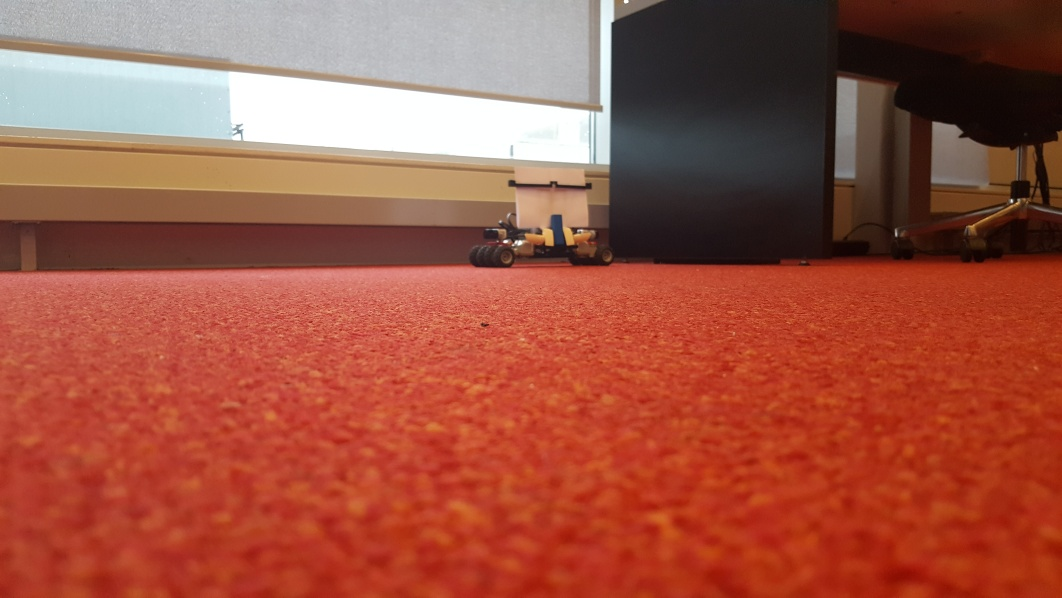car: (470, 162, 618, 271)
